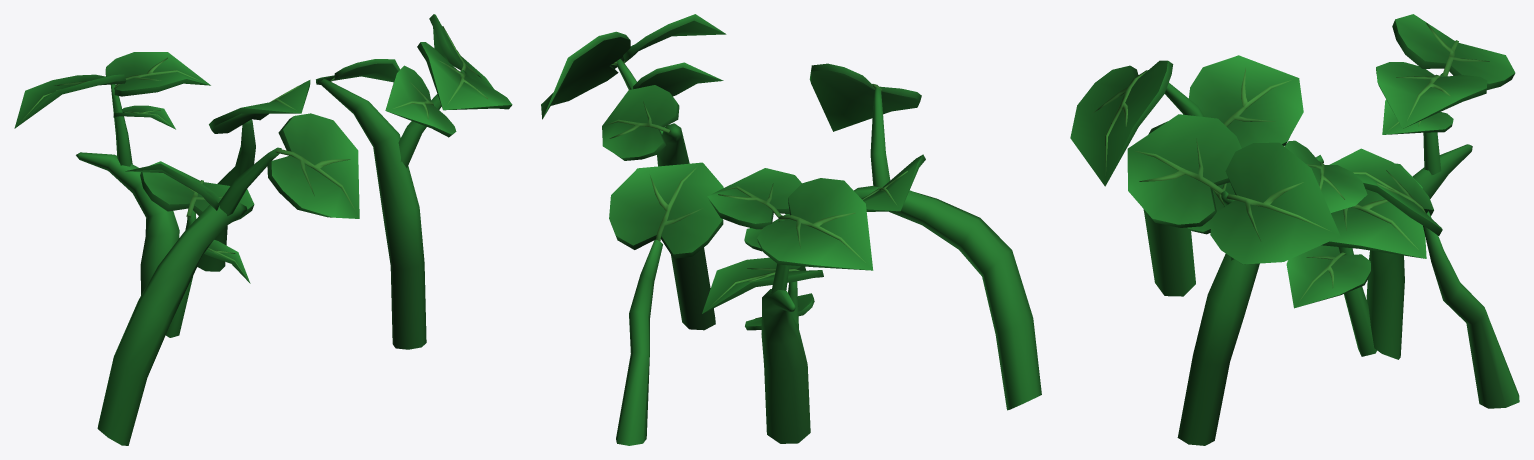
Rendered from SM_Plant_Pumpkin_Lv2.fbx.
3 views of the same model, side by side, from view 1: azimuth 30°, elevation 25°; view 2: azimuth 150°, elevation 25°; view 3: azimuth 270°, elevation 25° (orthographic). The views are drawn at different scales.
Visible parts, largest first — view 1: SM_Plant_Pumpkin_Lv2; view 2: SM_Plant_Pumpkin_Lv2; view 3: SM_Plant_Pumpkin_Lv2.
Part boxes in pixels (x1,y1,x2,y2): SM_Plant_Pumpkin_Lv2: (14,14,512,445); SM_Plant_Pumpkin_Lv2: (541,14,1041,445); SM_Plant_Pumpkin_Lv2: (1070,14,1519,445).
Size of the model in its own units: 53.69 by 36.56 by 42.22.
